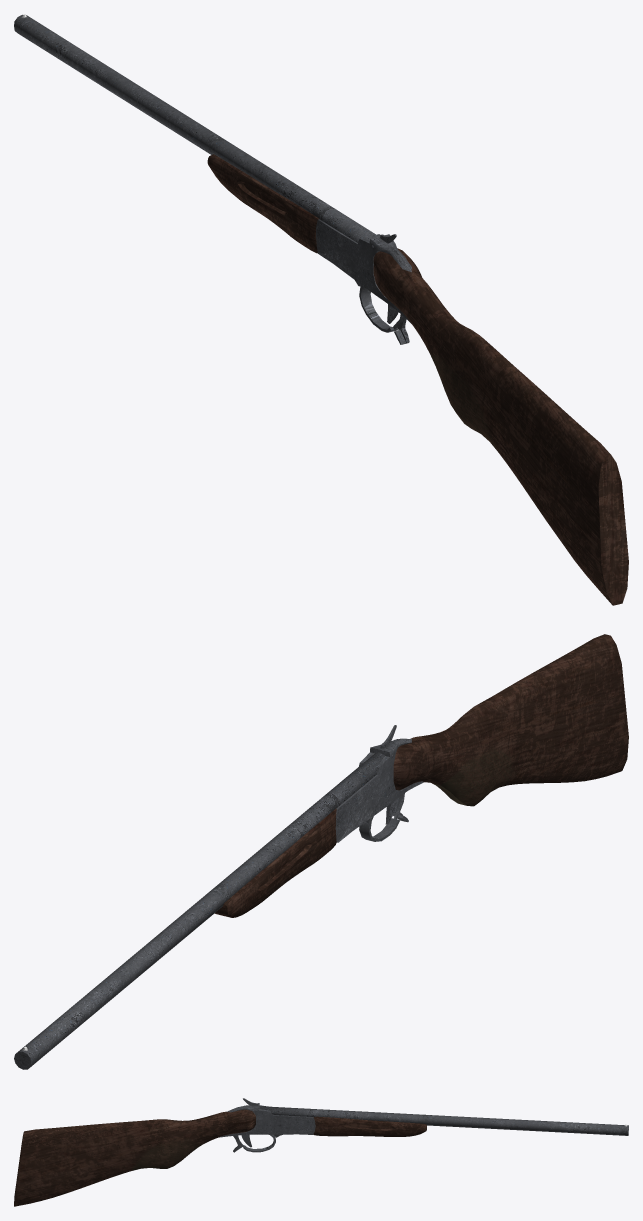
The picture shows the model from 3 angles, top to bottom: view 1: azimuth 30°, elevation 25°; view 2: azimuth 150°, elevation 25°; view 3: azimuth 270°, elevation 25°; orthographic projection. The views are drawn at different scales.
Visible parts, largest first — view 1: Butt_low_2, Metal_low_1, Handle_low_0; view 2: Butt_low_2, Metal_low_1, Handle_low_0; view 3: Butt_low_2, Metal_low_1, Handle_low_0.
Boxes of the visible parts, x1=… form: Butt_low_2: x1=373, y1=248, x2=628, y2=605; Metal_low_1: x1=14, y1=14, x2=411, y2=344; Handle_low_0: x1=207, y1=154, x2=318, y2=253; Butt_low_2: x1=393, y1=634, x2=628, y2=806; Metal_low_1: x1=14, y1=725, x2=423, y2=1069; Handle_low_0: x1=214, y1=808, x2=336, y2=917; Butt_low_2: x1=14, y1=1109, x2=255, y2=1206; Metal_low_1: x1=219, y1=1098, x2=628, y2=1152; Handle_low_0: x1=313, y1=1116, x2=426, y2=1136.
Size of the model in its own units: 0.0805 by 0.5104 by 2.65.
3 materials, 3 textured.
